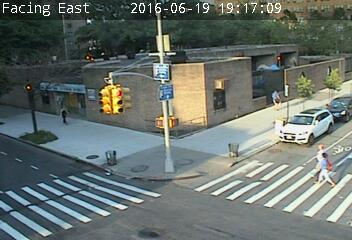neg: (246, 166, 270, 198), (145, 112, 167, 141), (251, 26, 269, 50), (155, 20, 171, 41), (288, 30, 303, 49), (109, 97, 123, 115), (205, 21, 219, 39), (198, 156, 211, 173), (187, 106, 199, 122), (107, 57, 119, 73), (107, 123, 119, 139), (98, 148, 109, 163), (157, 174, 168, 189), (60, 29, 71, 43), (280, 121, 290, 134), (157, 61, 167, 73), (187, 208, 196, 220), (97, 203, 106, 215), (62, 161, 69, 171), (230, 143, 237, 153)
pos: (309, 150, 338, 188), (307, 140, 333, 175), (265, 85, 286, 112), (56, 105, 71, 124)
